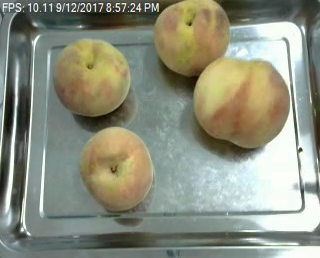Peach: (193, 57, 290, 148), (79, 125, 154, 210), (52, 37, 130, 116), (153, 1, 230, 78)
